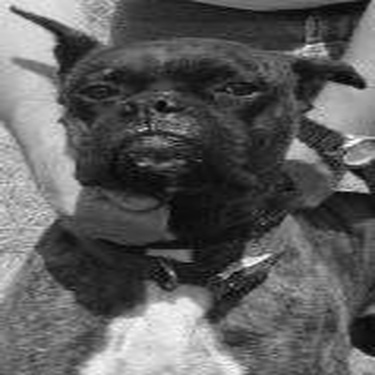dog: (1, 8, 371, 372)
